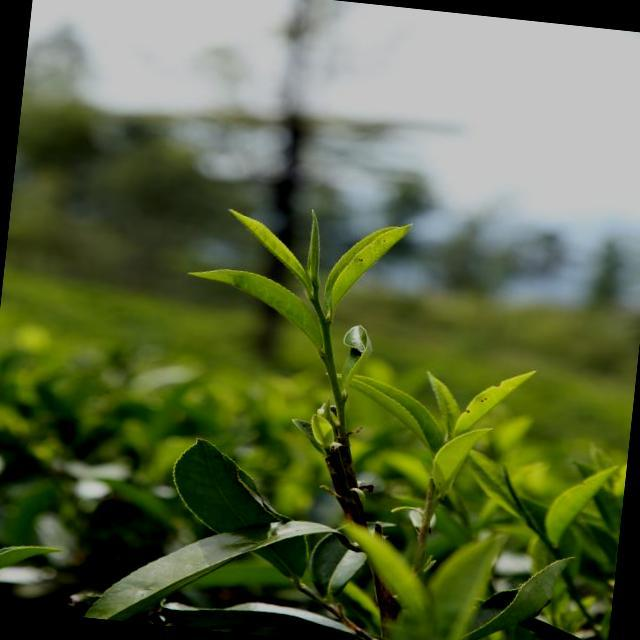Stem: (325, 354, 333, 364)
